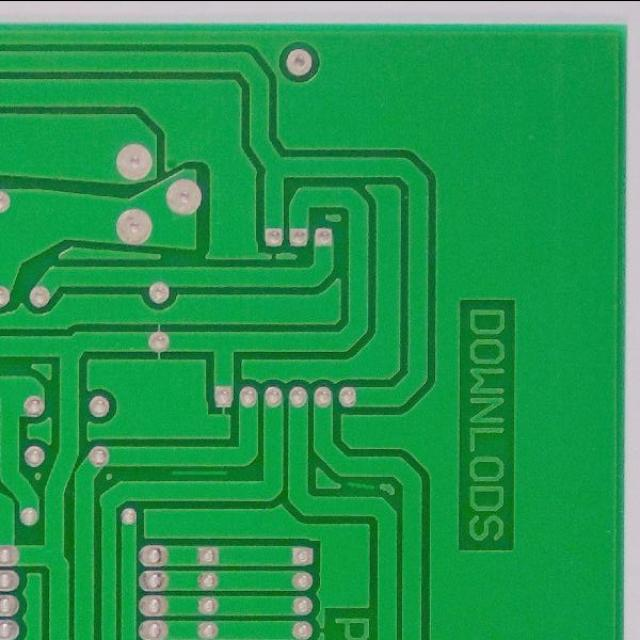Spurious_Cooper: (168, 466, 230, 479), (343, 478, 384, 492)
